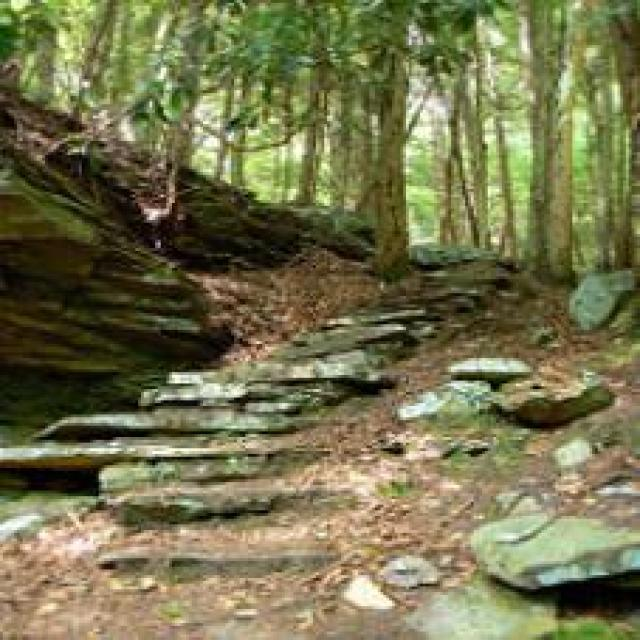upstair: (26, 306, 328, 514)
